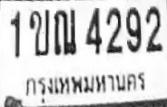1: (9, 9, 20, 58)
2: (145, 5, 162, 52), (105, 6, 122, 53)
4: (84, 7, 102, 54)
9: (125, 6, 141, 52)
A02: (27, 8, 50, 56)
A19: (53, 8, 77, 55)
BKK: (20, 67, 147, 101)
